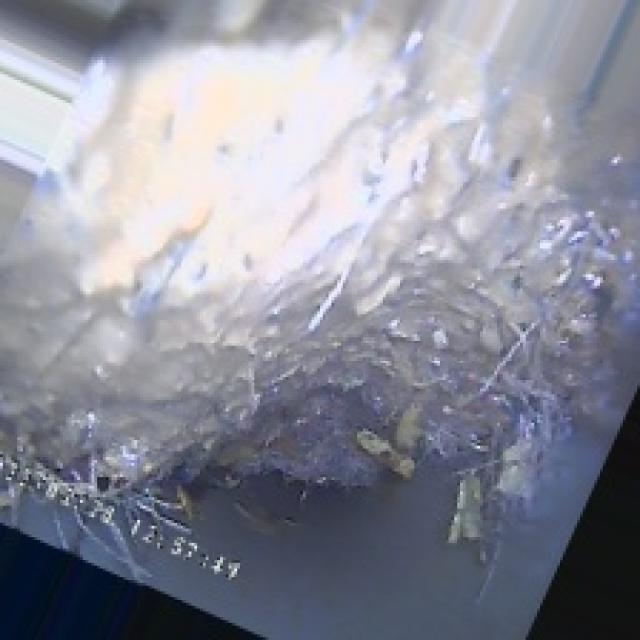sluge accumulation: (86, 83, 546, 514)
